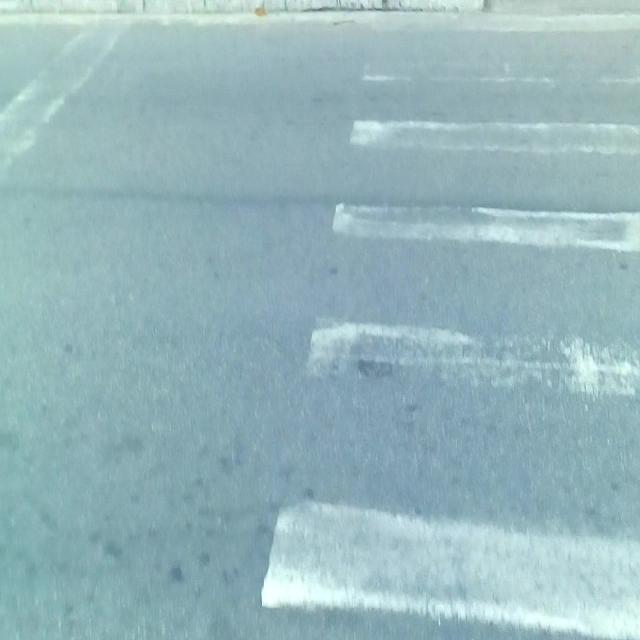crosswalk: (253, 10, 640, 640)
